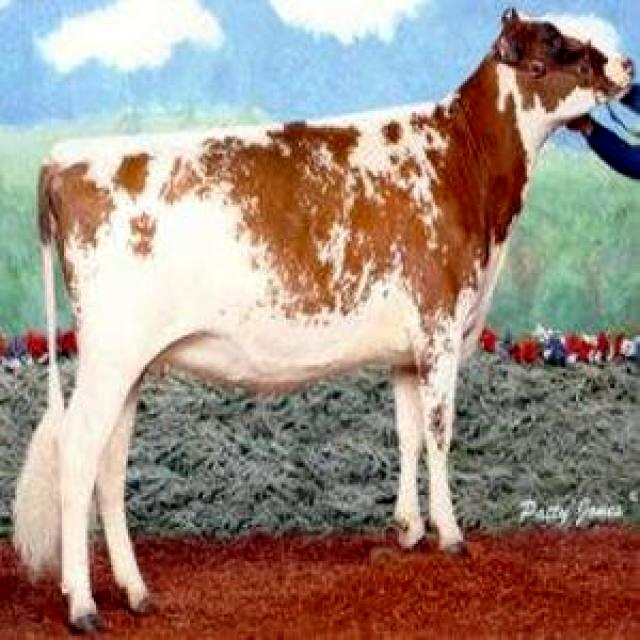COW: (14, 11, 634, 630)
